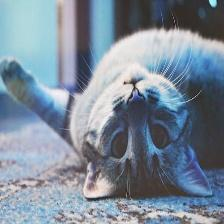kedo: (0, 31, 224, 199)
